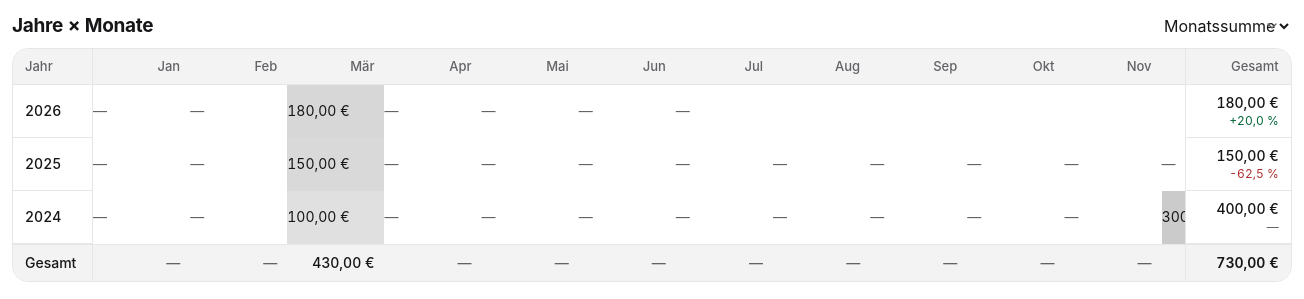
Test: YearMonthMatrix ab md › wechselt die Ansicht auf die Veränderung zum Vorjahresmonat
The image size is (1304, 299).
Select "Zum Vorjahr" in the dropdown named "Ansicht". click: (1226, 26)
box: [1160, 15, 1292, 37]
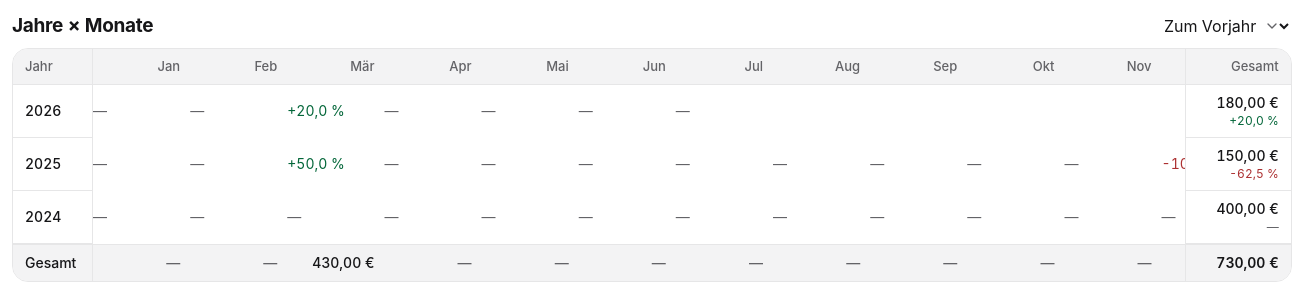
Expected: the text "400,00 €" is shown, [1217, 200, 1279, 217]
Result: the text "+50,0 %" is shown at [287, 155, 345, 172]
